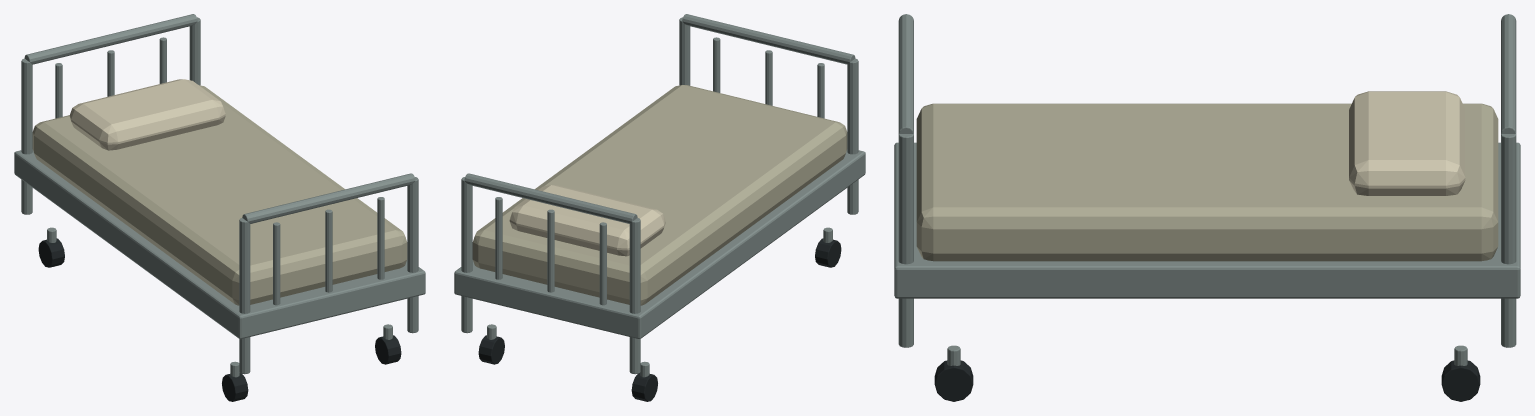
File: H_Bed.fbx
3 views of the same model, side by side, from view 1: azimuth 30°, elevation 25°; view 2: azimuth 150°, elevation 25°; view 3: azimuth 270°, elevation 25° (orthographic). The views are drawn at different scales.
Parts seen in each view (by area): view 1: H_Bed; view 2: H_Bed; view 3: H_Bed.
Part boxes in pixels (x1,y1,x2,y2): H_Bed: (14,14,425,401); H_Bed: (454,14,865,401); H_Bed: (894,14,1520,401).
Bounding box in the file's own units: 1 × 1.02 × 2.1.
